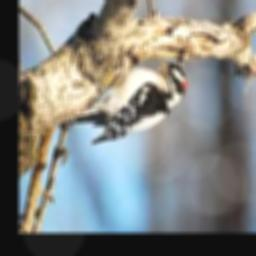Woodpecker: (59, 56, 186, 143)
